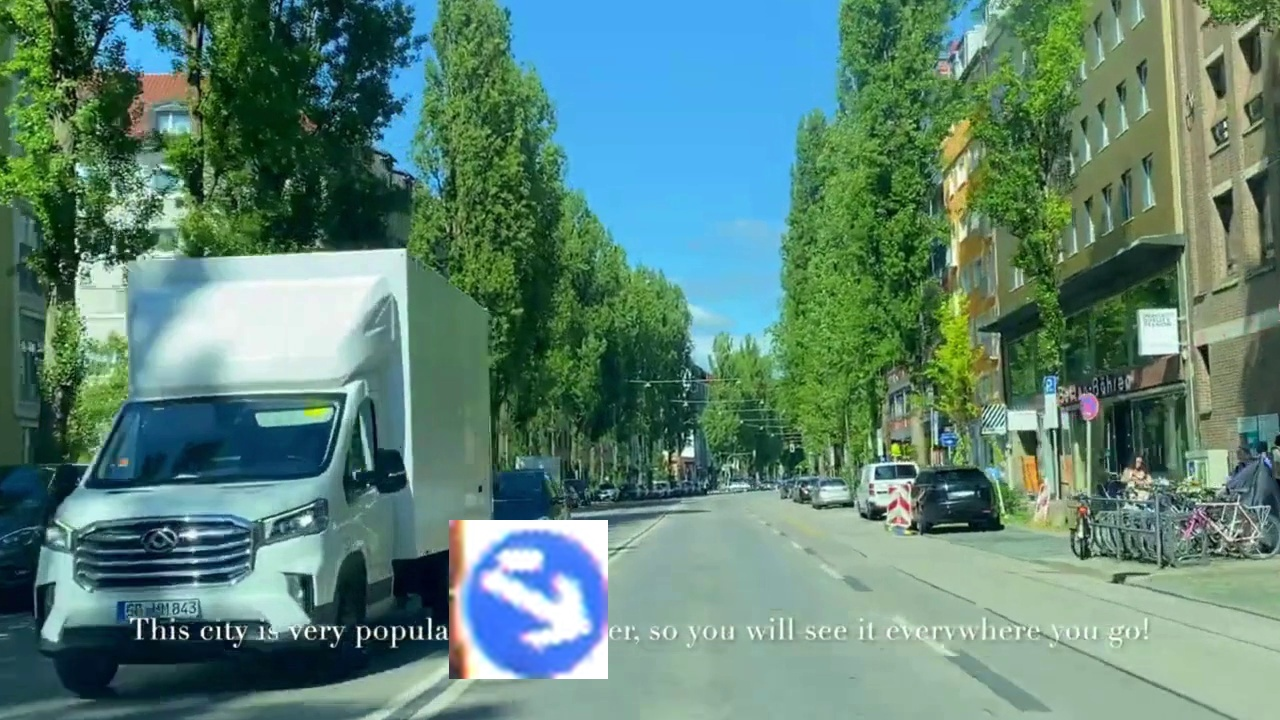Keep right: (449, 520, 608, 679)
